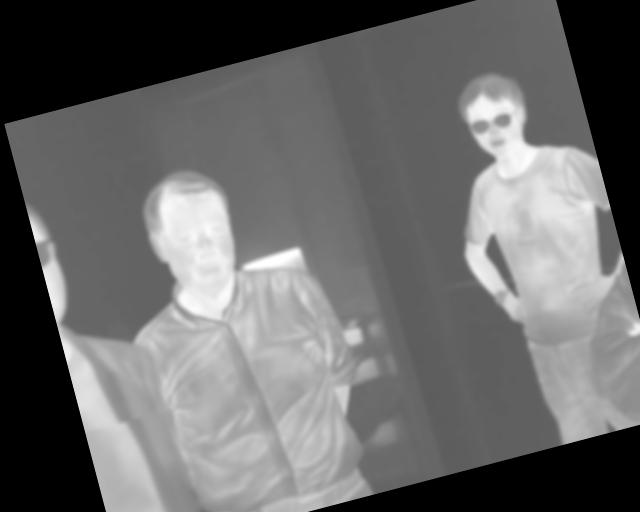face: (132, 159, 246, 301), (452, 64, 539, 165)
